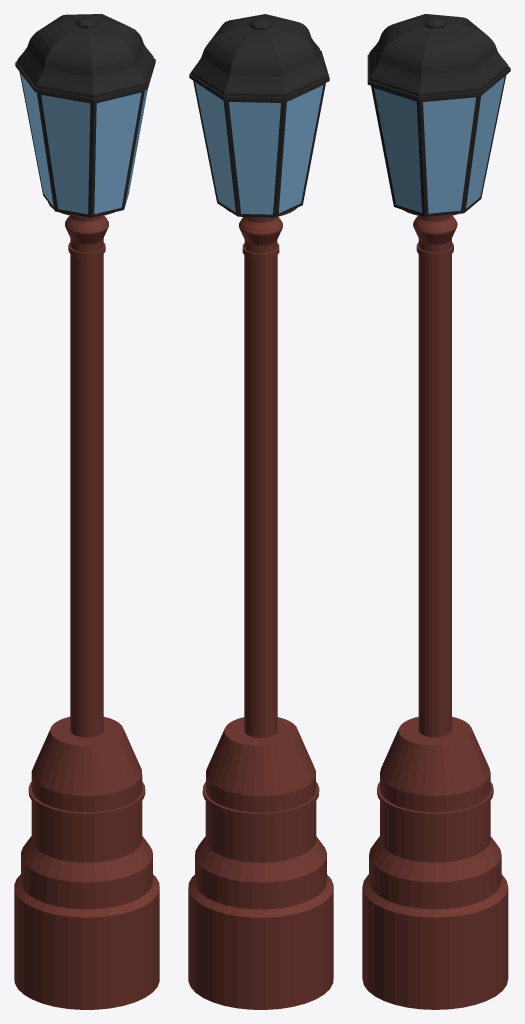
The model's file is lamp.fbx.
3 views of the same model, side by side, from view 1: azimuth 30°, elevation 25°; view 2: azimuth 150°, elevation 25°; view 3: azimuth 270°, elevation 25° (orthographic).
Parts seen in each view (by area): view 1: Cylinder, lamp; view 2: Cylinder, lamp; view 3: Cylinder, lamp.
Part boxes in pixels (x1,y1,x2,y2): Cylinder: (14, 202, 159, 1009); lamp: (15, 14, 155, 217); Cylinder: (188, 208, 333, 1009); lamp: (189, 14, 329, 217); Cylinder: (362, 209, 508, 1009); lamp: (367, 14, 510, 216).
Bounding box in the file's own units: 85.21 × 619 × 86.6.
